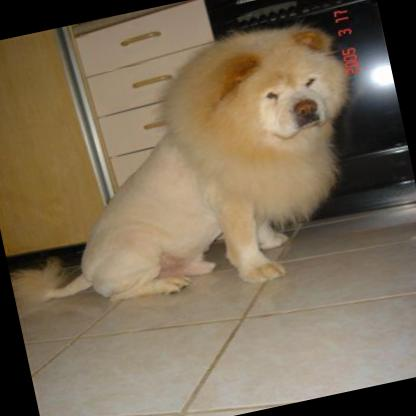chow: (0, 9, 384, 333)
